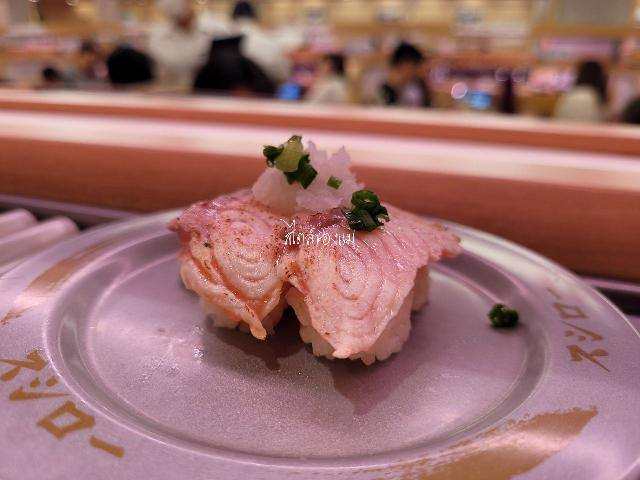janwhite: (16, 209, 623, 480)
